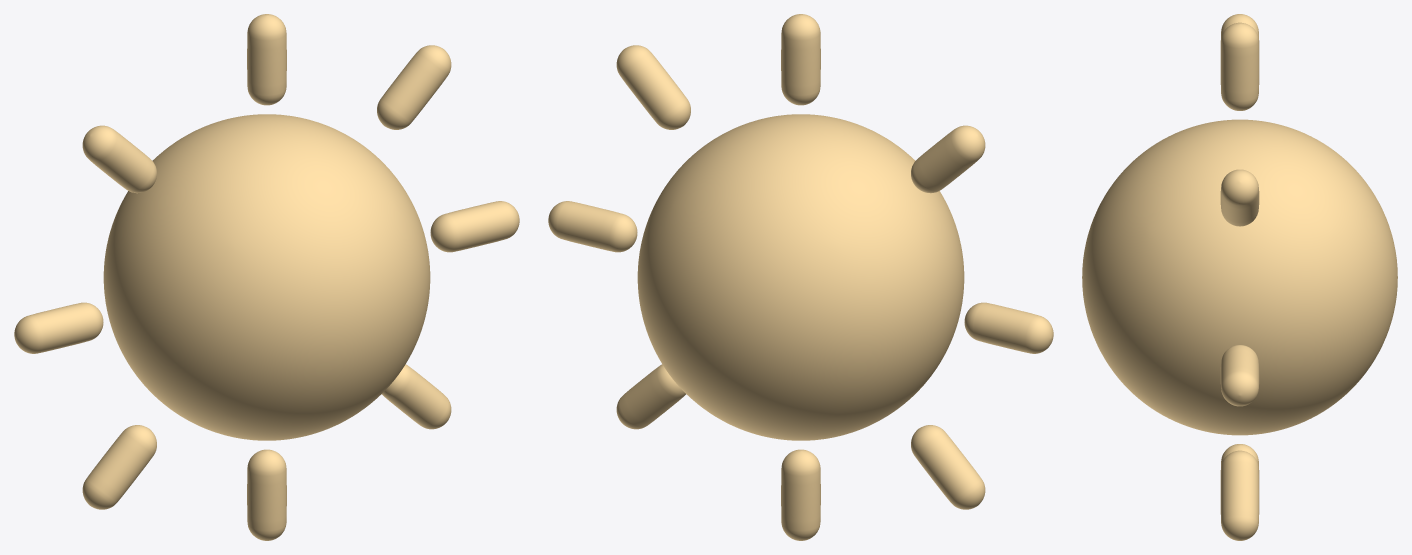
Rendered from sun.fbx.
The picture shows the model from 3 angles, left to right: view 1: azimuth 30°, elevation 25°; view 2: azimuth 150°, elevation 25°; view 3: azimuth 270°, elevation 25°; orthographic projection. The views are drawn at different scales.
Visible parts, largest first — view 1: Sun; view 2: Sun; view 3: Sun.
Boxes of the visible parts, bbox=[...] form: Sun: bbox=[14, 14, 519, 540]; Sun: bbox=[548, 14, 1053, 540]; Sun: bbox=[1082, 14, 1397, 540].
Bounding box in the file's own units: 200 × 200 × 113.
